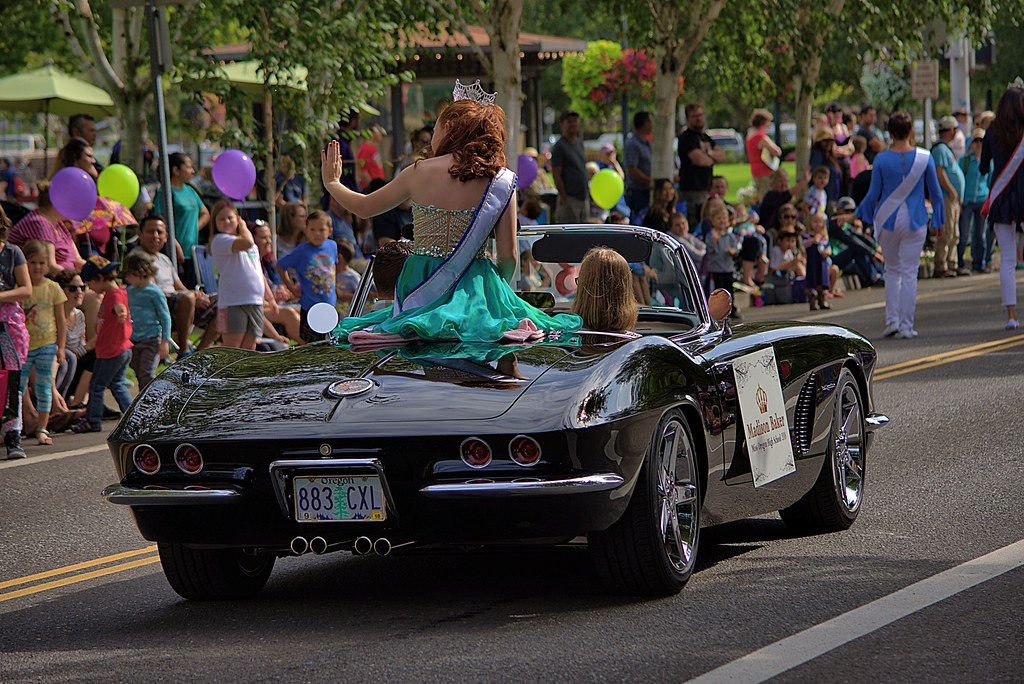car: (84, 221, 909, 577)
person: (311, 73, 546, 344)
